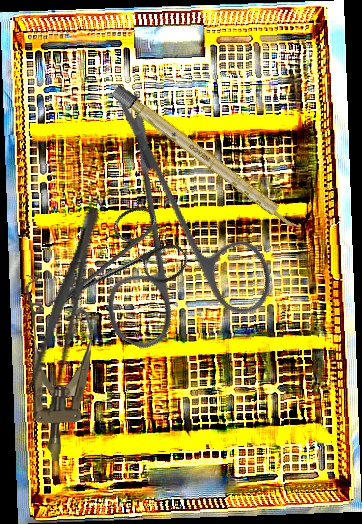Dressing Forceps: (20, 202, 111, 418)
Iris Scissors: (18, 87, 324, 390), (27, 196, 194, 345)
Scalpel Handle: (110, 84, 304, 234)
Speculum: (20, 275, 94, 462)
